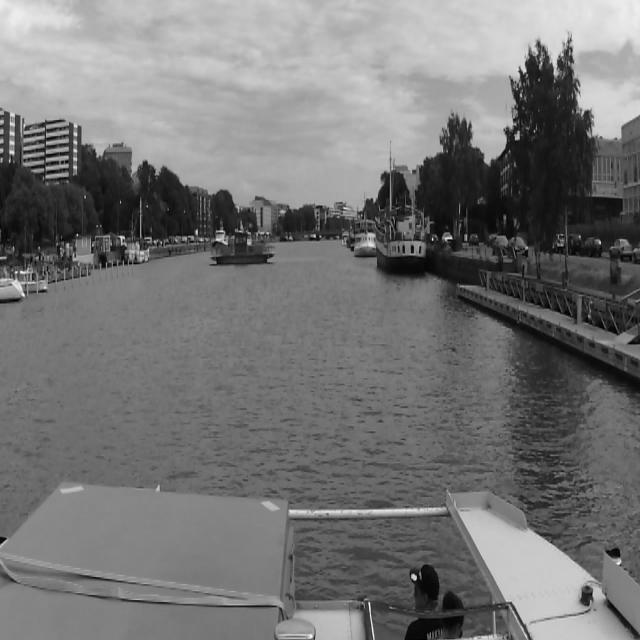ship: (375, 141, 429, 280), (209, 228, 276, 270), (353, 212, 375, 260), (241, 224, 251, 243)
